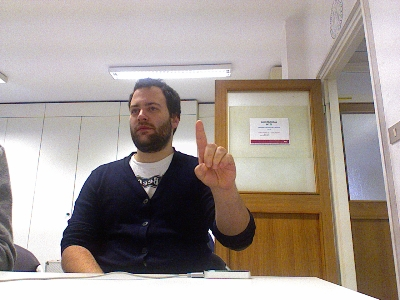食指: (192, 118, 238, 190)
